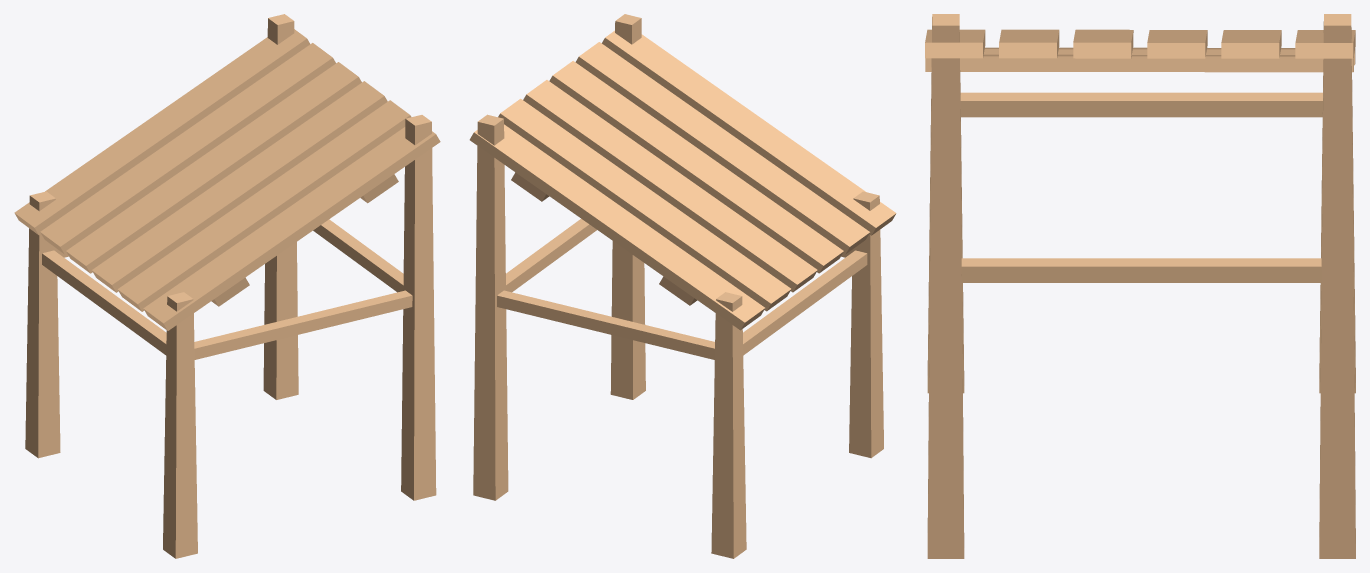
3 renders of one model, left to right at view 1: azimuth 30°, elevation 25°; view 2: azimuth 150°, elevation 25°; view 3: azimuth 270°, elevation 25°, orthographic. The views are drawn at different scales.
Parts seen in each view (by area): view 1: structureRoof; view 2: structureRoof; view 3: structureRoof.
Part boxes in pixels (x1,y1,x2,y2): structureRoof: (14,14,440,558); structureRoof: (469,14,896,558); structureRoof: (925,14,1355,558).
Size of the model in its own units: 0.5328 by 0.6845 by 0.503.
